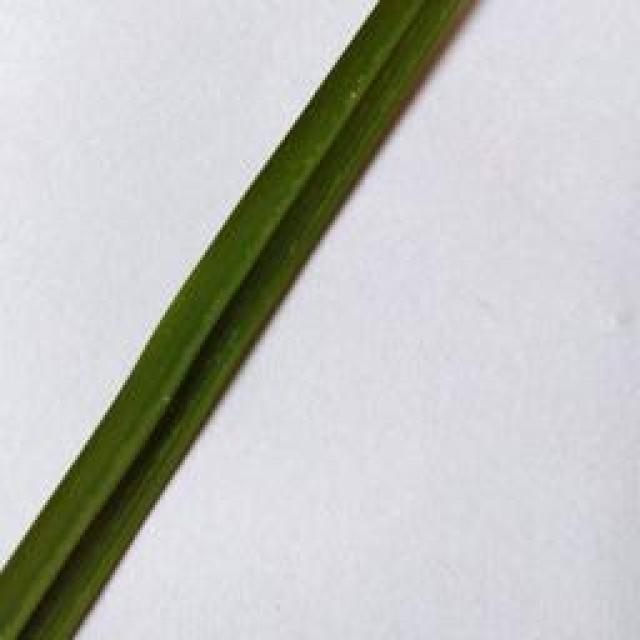Bacterial_Blight: (337, 0, 479, 201)
